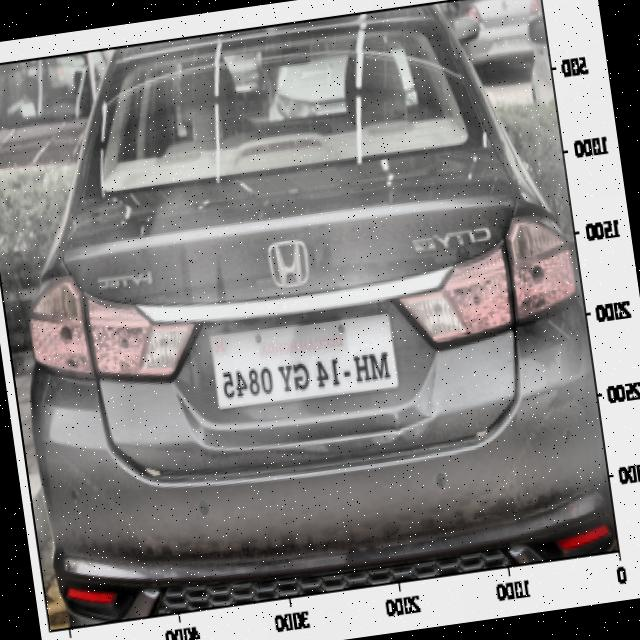license_plate: (214, 339, 402, 414)
